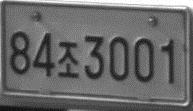0: (107, 36, 130, 82), (133, 37, 155, 82)
1: (159, 38, 175, 85)
3: (82, 33, 104, 79)
4: (31, 31, 56, 78)
8: (9, 30, 32, 76)
조: (56, 41, 81, 79)
